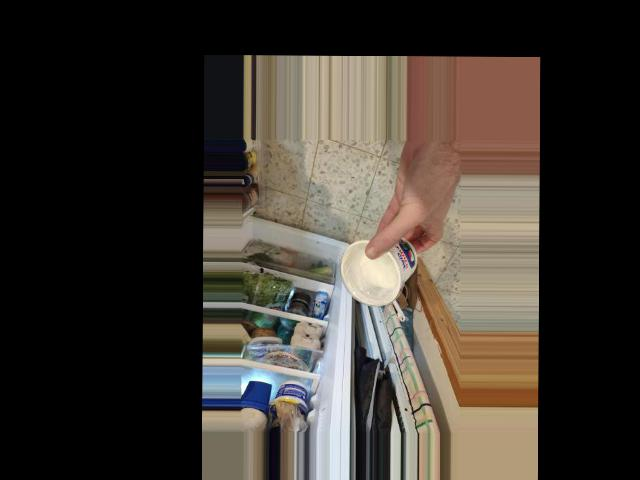cotage: (342, 231, 422, 310)
